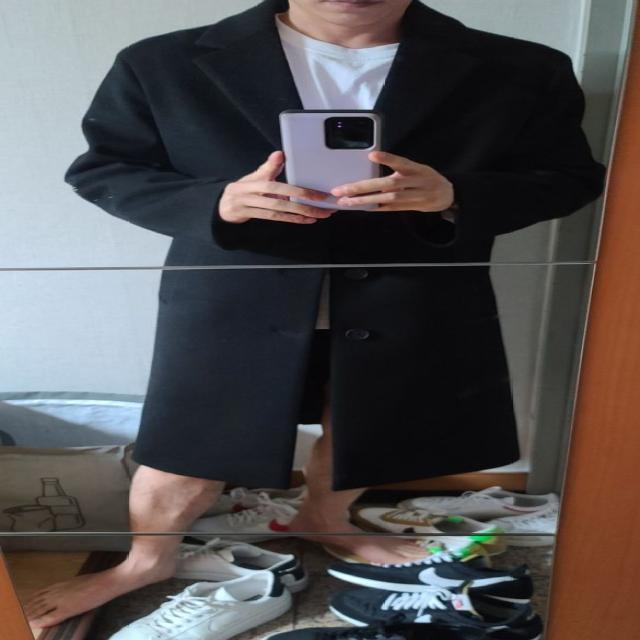coat: (60, 0, 610, 488)
